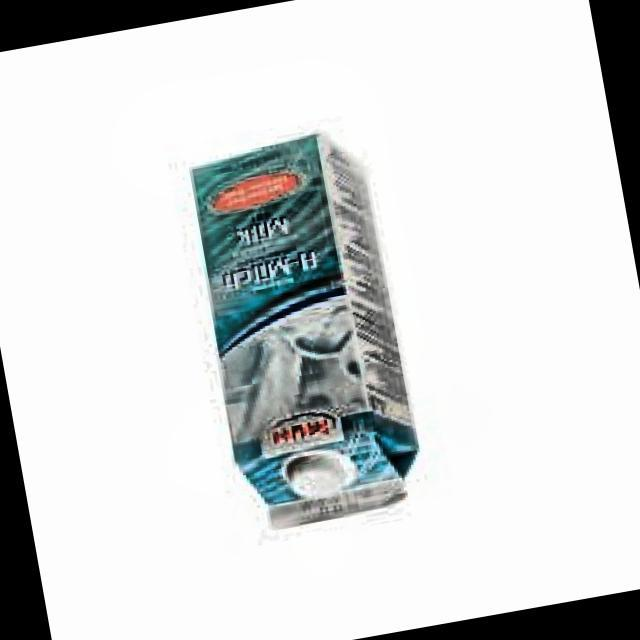cardboard: (182, 127, 432, 538)
